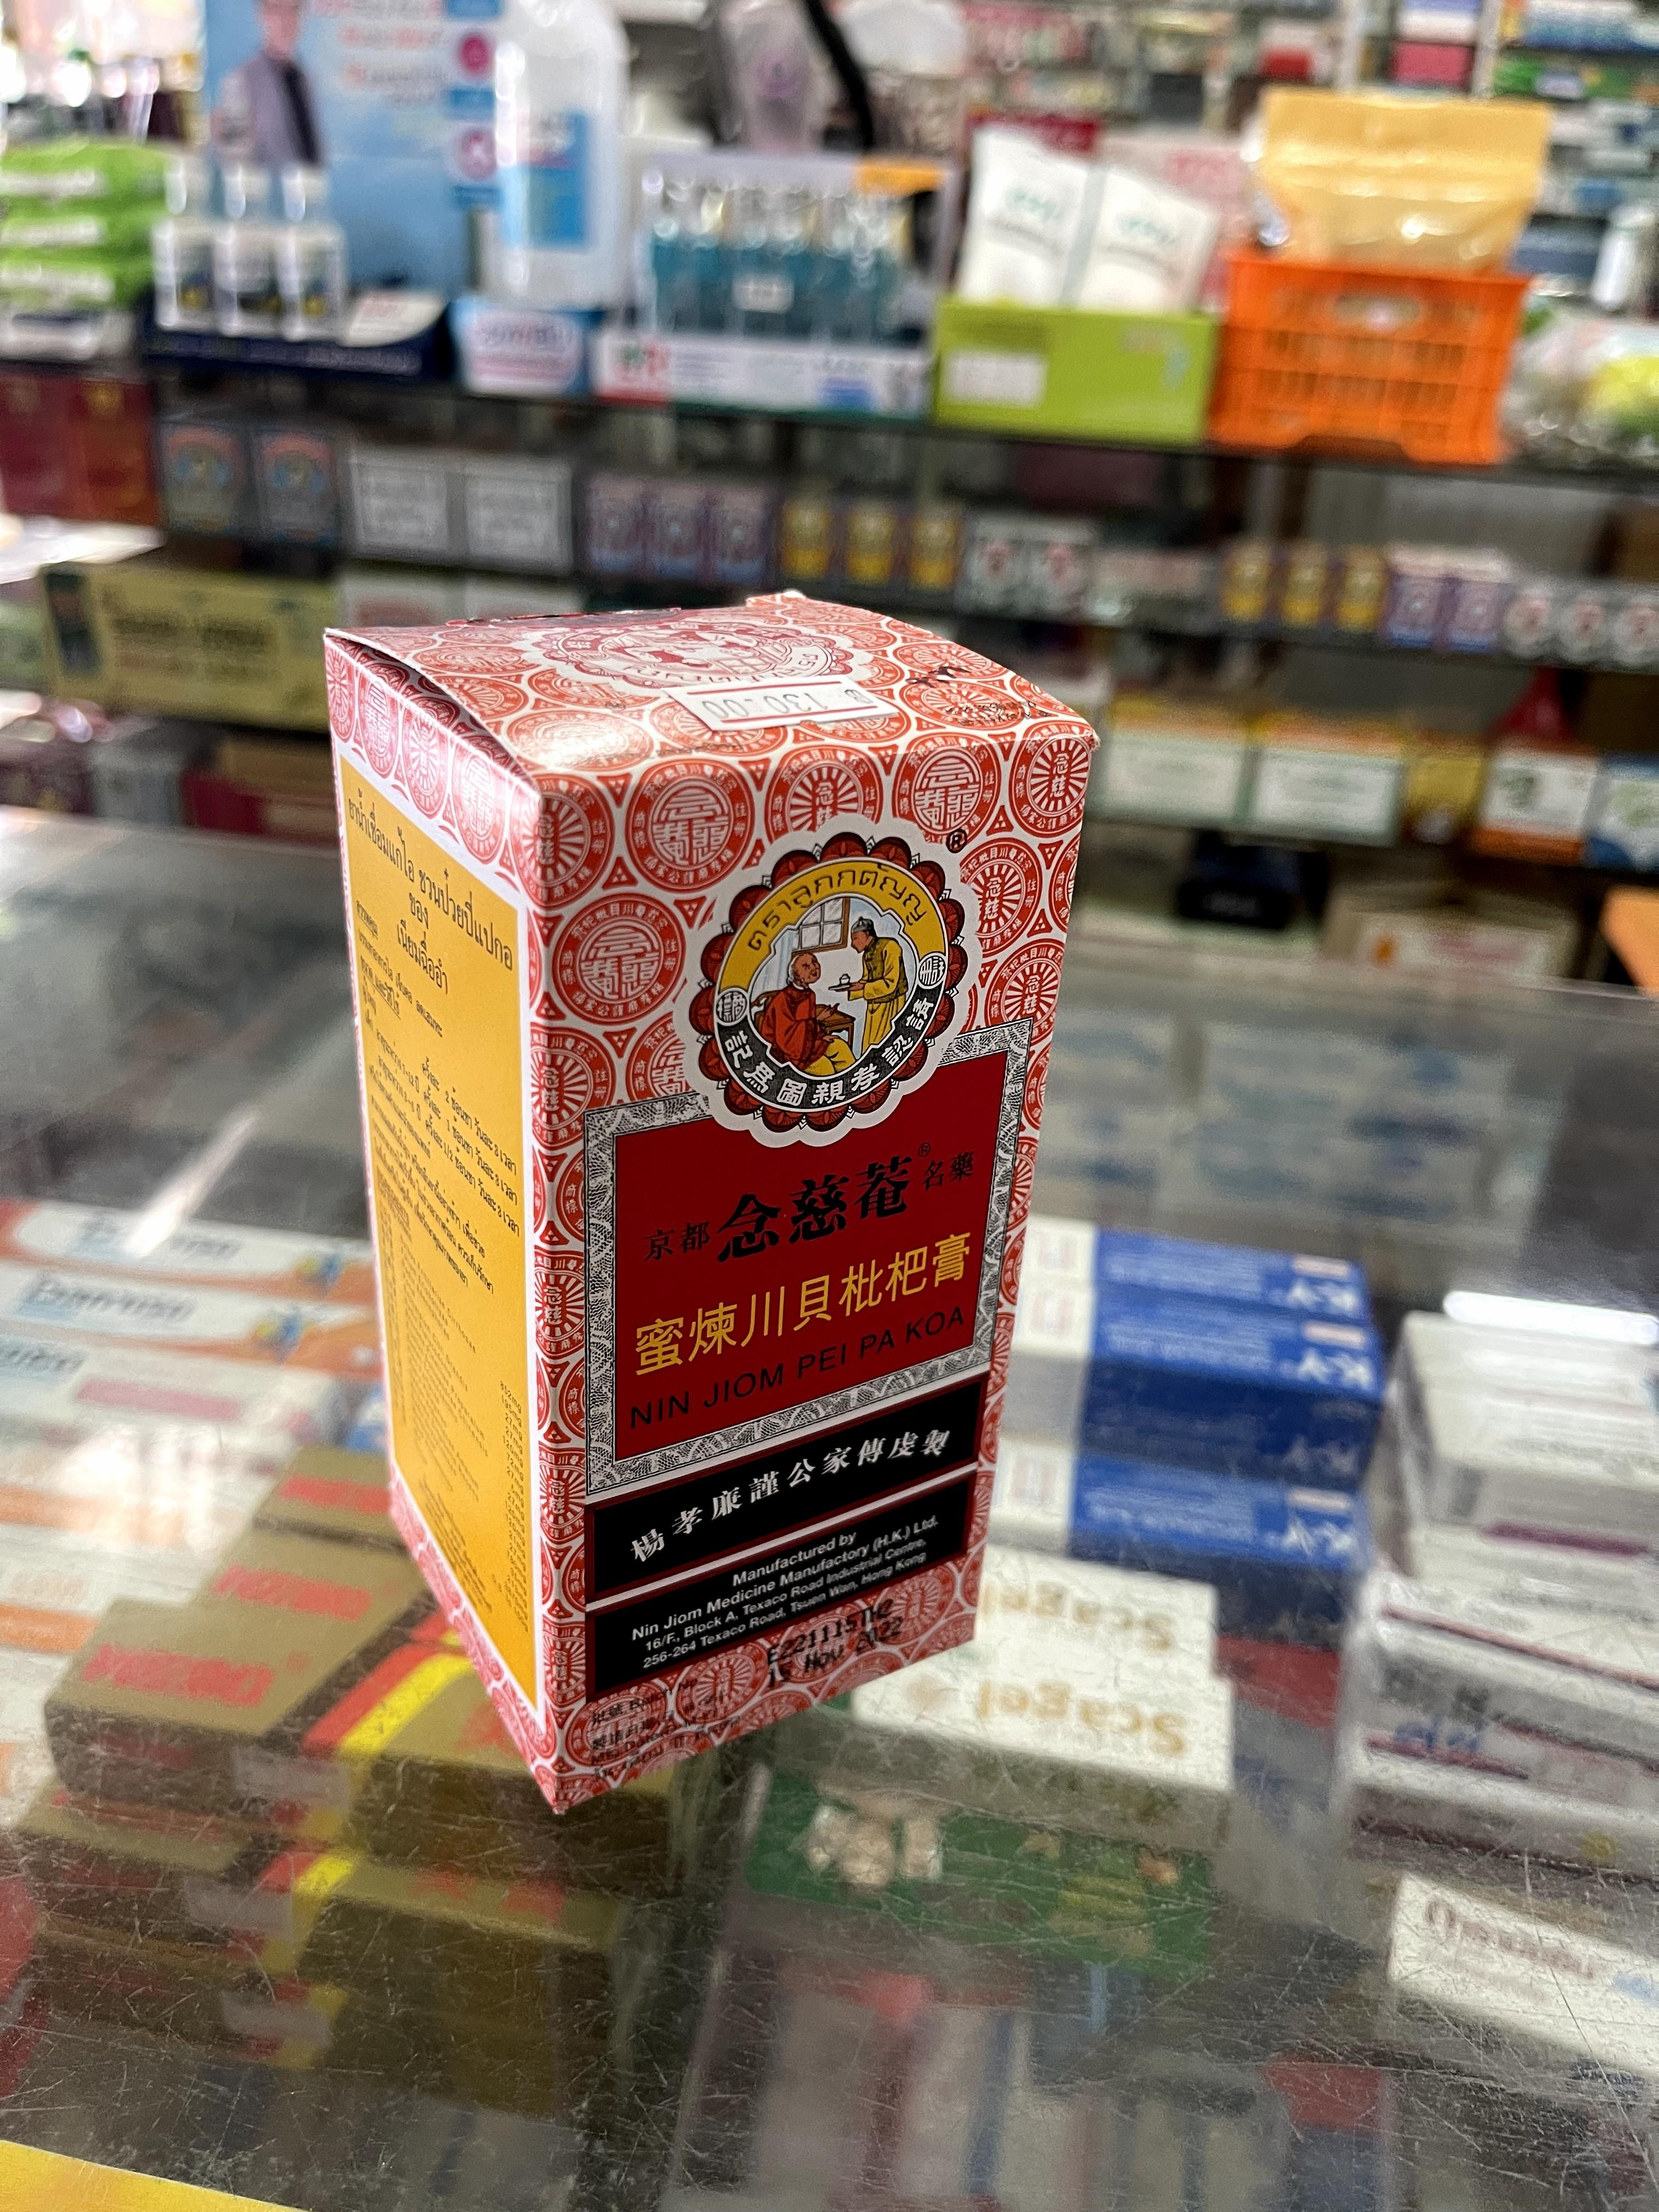Pei-Pa-Koa_Big: (326, 610, 1086, 1808)
